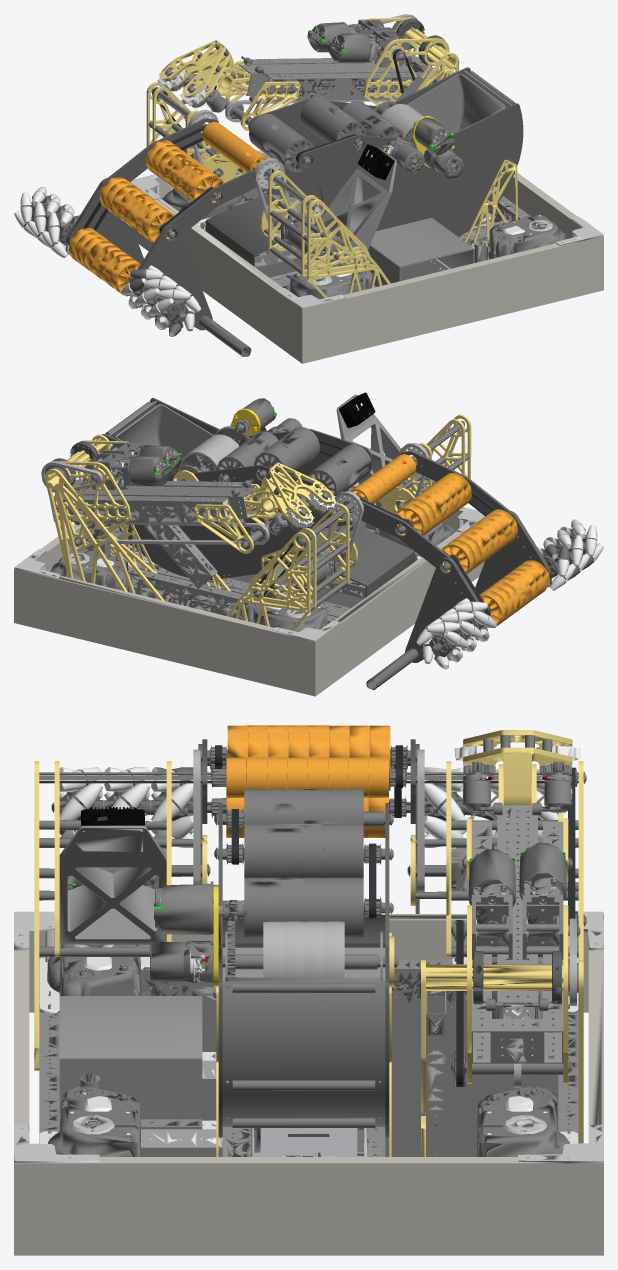
The model's file is hero-sentinel-1923.glb.
3 renders of one model, top to bottom at view 1: azimuth 30°, elevation 25°; view 2: azimuth 150°, elevation 25°; view 3: azimuth 270°, elevation 25°, orthographic. The views are drawn at different scales.
Visible parts, largest first — view 1: frame, tunnel, intake-arm, arm, arm-slide, hood, flywheel; view 2: frame, intake-arm, tunnel, arm, arm-slide, hood, flywheel; view 3: frame, tunnel, intake-arm, arm, arm-slide, flywheel, hood.
Part boxes in pixels (bbox=[...]): frame: bbox=[66, 14, 603, 363]; tunnel: bbox=[248, 67, 523, 291]; intake-arm: bbox=[14, 88, 319, 356]; arm: bbox=[222, 19, 436, 130]; arm-slide: bbox=[157, 40, 409, 112]; hood: bbox=[374, 73, 505, 133]; flywheel: bbox=[381, 104, 423, 140]; frame: bbox=[14, 392, 550, 696]; intake-arm: bbox=[300, 420, 603, 690]; tunnel: bbox=[102, 397, 372, 617]; arm: bbox=[50, 442, 271, 553]; arm-slide: bbox=[83, 463, 337, 535]; hood: bbox=[115, 404, 240, 480]; flywheel: bbox=[180, 434, 239, 481]; frame: bbox=[14, 744, 603, 1255]; tunnel: bbox=[150, 789, 395, 1156]; intake-arm: bbox=[39, 725, 578, 847]; arm: bbox=[454, 802, 569, 1087]; arm-slide: bbox=[454, 730, 580, 1018]; flywheel: bbox=[263, 921, 344, 977]; hood: bbox=[225, 931, 382, 988].
Bounding box in the file's own units: 1.05 × 0.4744 × 0.7366.
